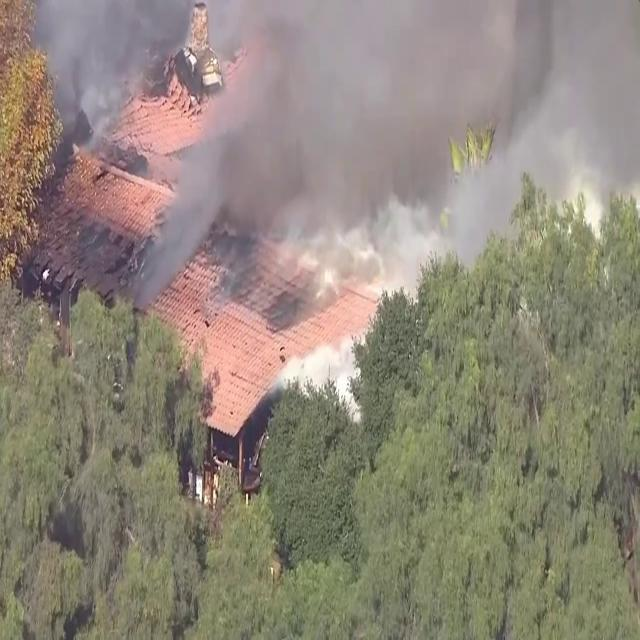Smoke: (28, 0, 528, 306)
